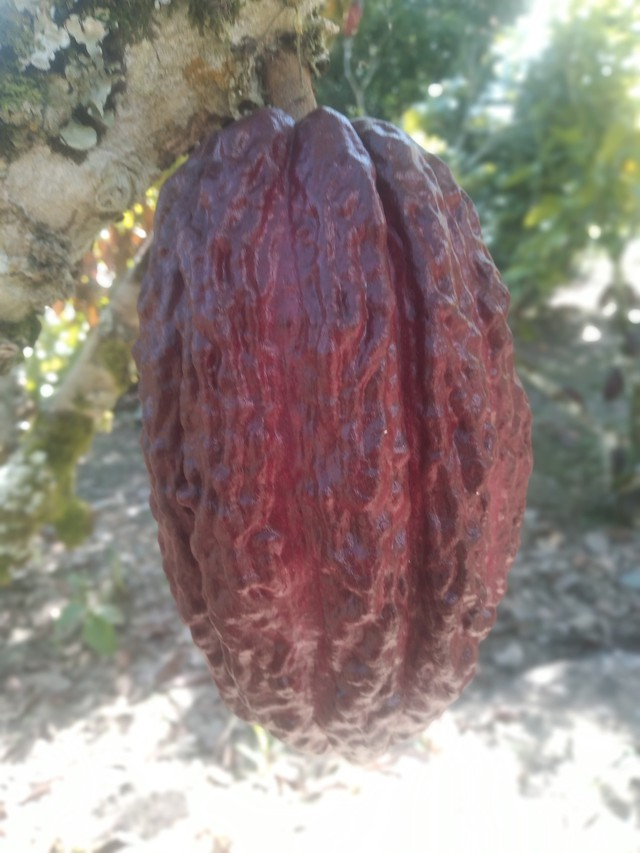Health: (111, 78, 550, 777)
